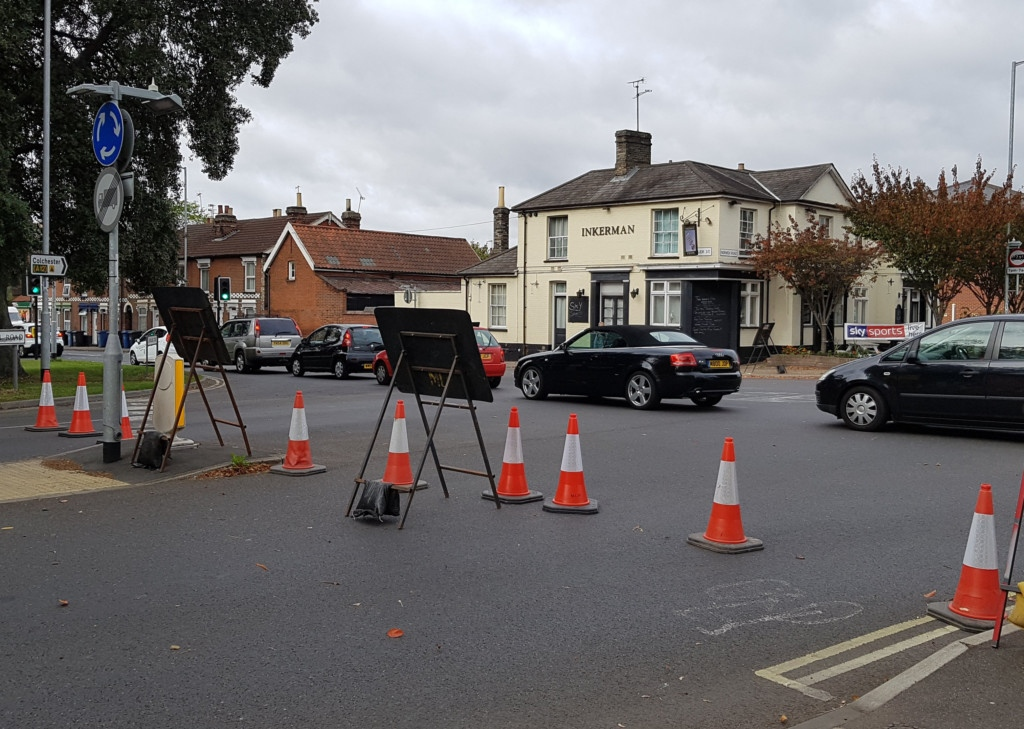cone: (926, 479, 1014, 633), (679, 420, 767, 574), (531, 381, 619, 535), (466, 372, 554, 526), (358, 362, 446, 516), (254, 353, 342, 507), (91, 371, 136, 450), (59, 362, 101, 438), (24, 363, 66, 439)
